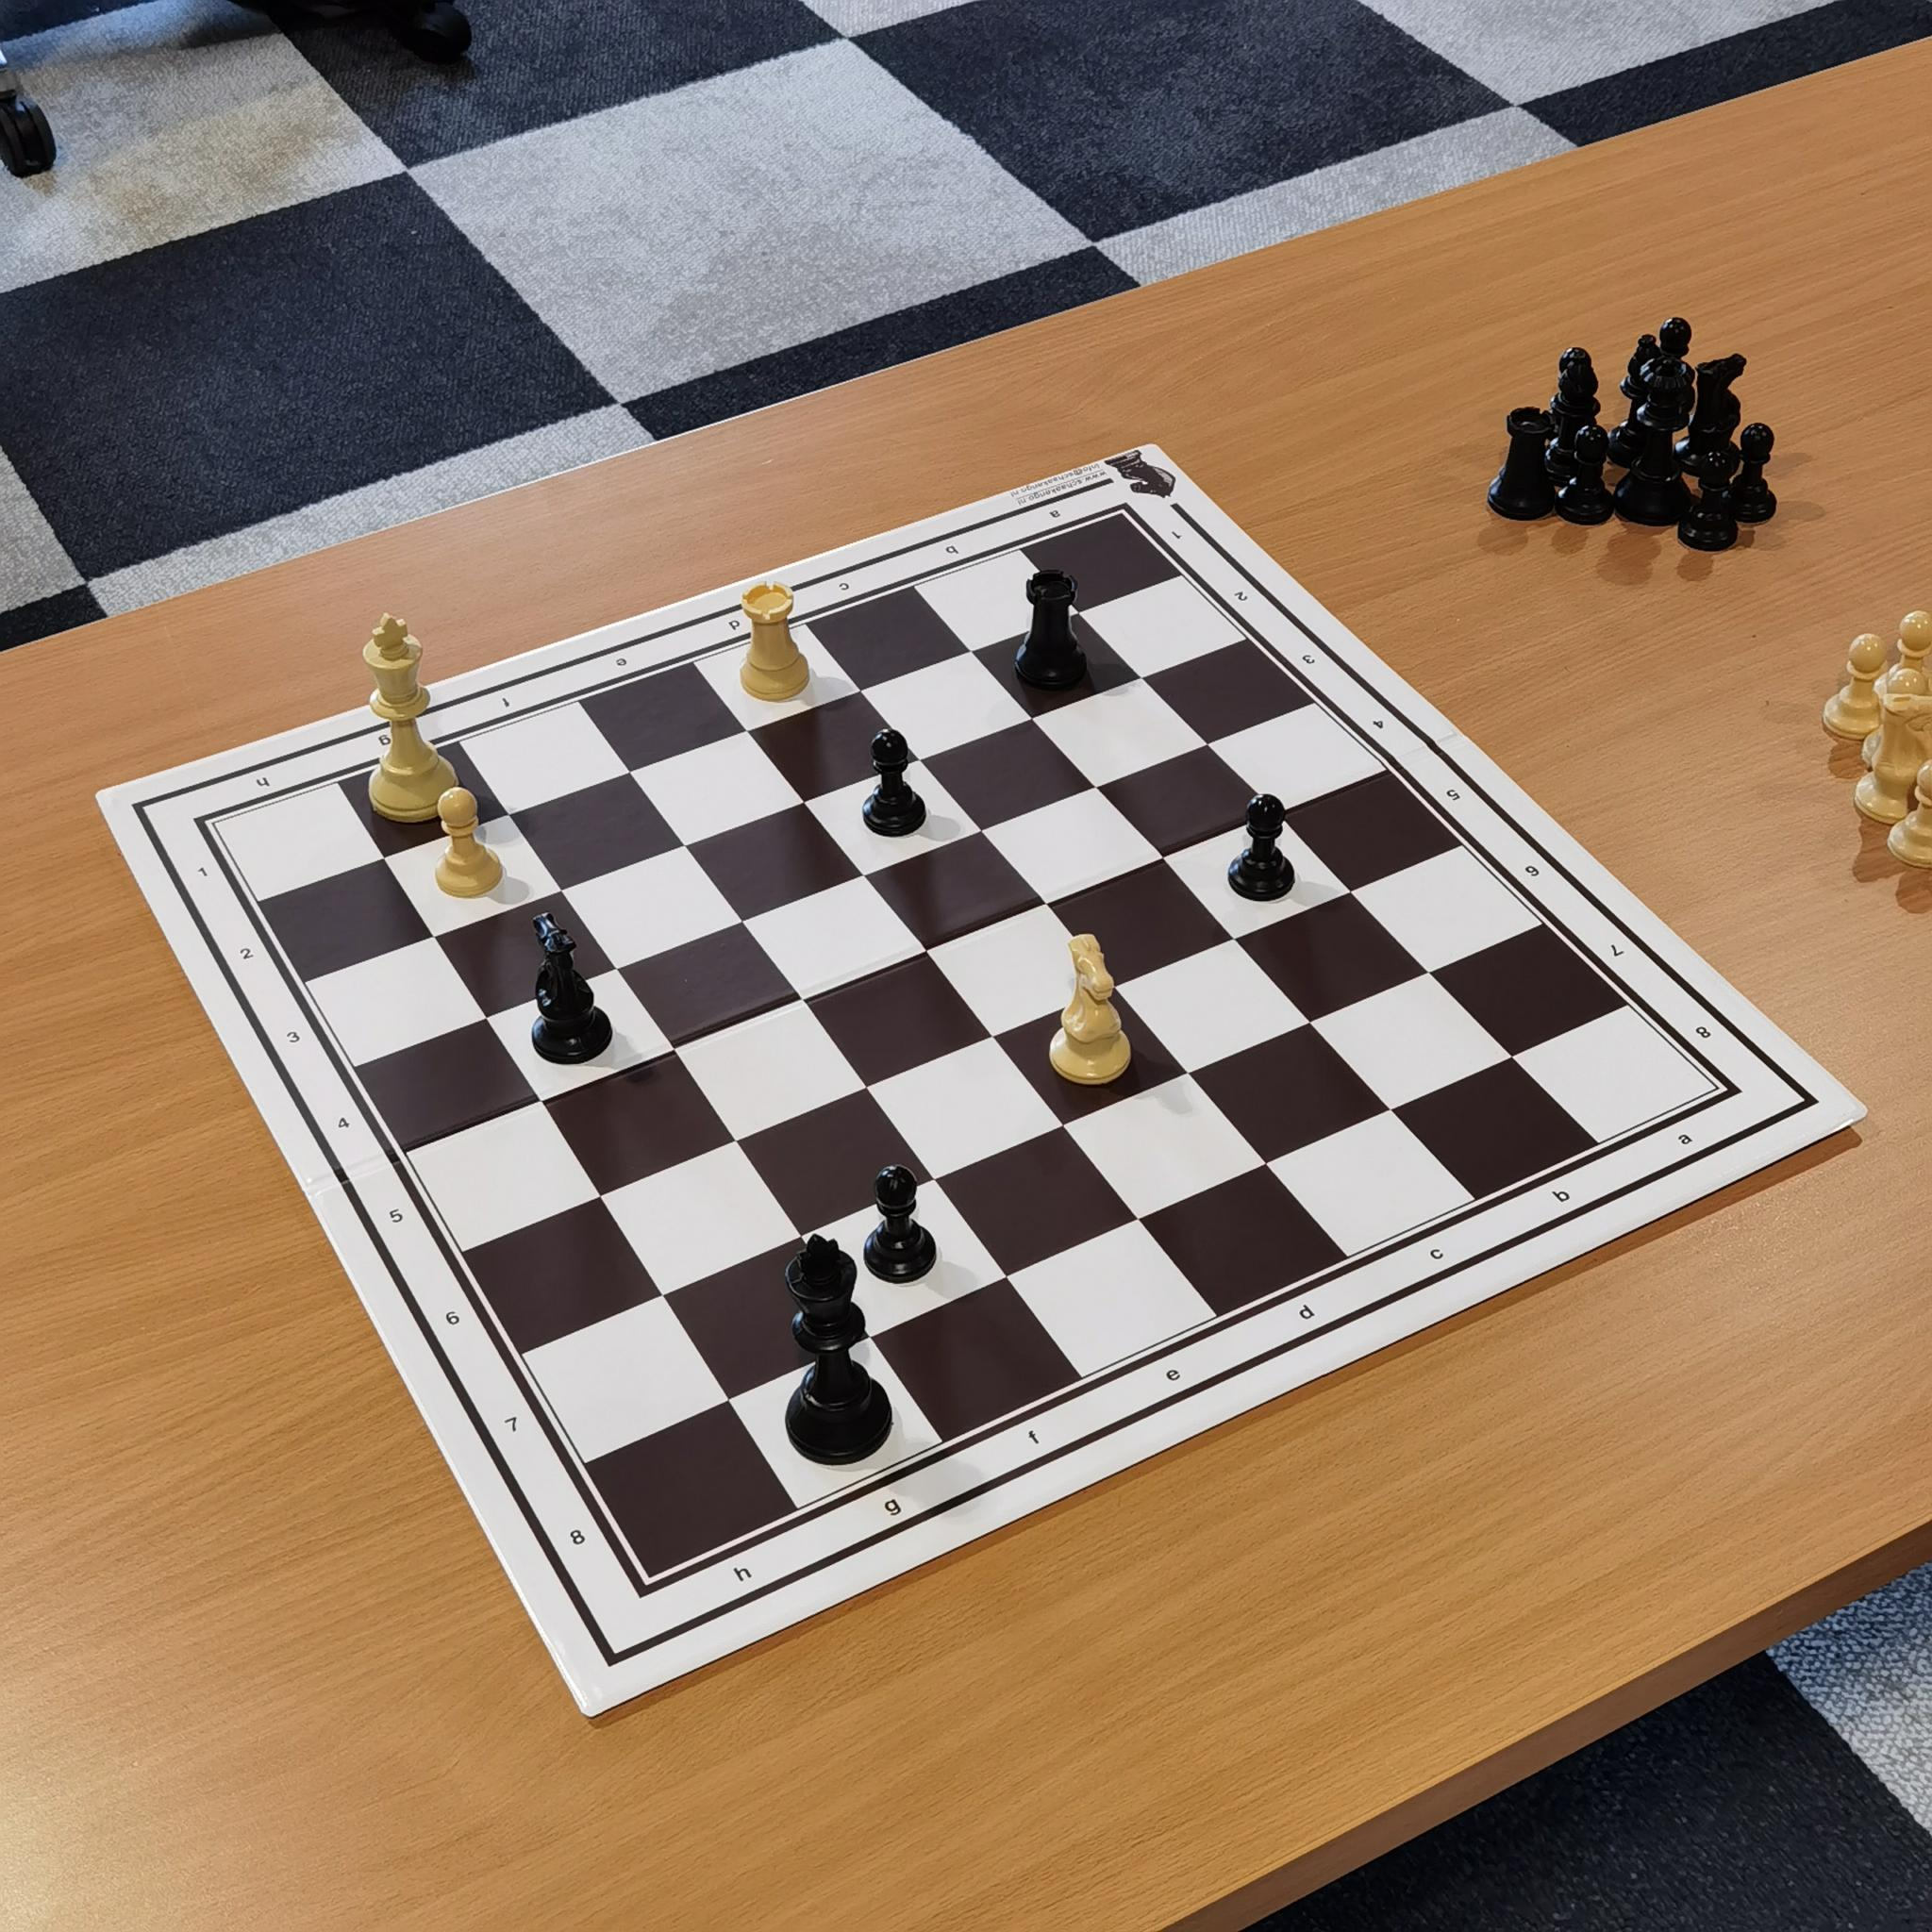corners: (1697, 1065, 1760, 1113), (617, 1566, 674, 1619), (182, 810, 239, 853), (1095, 495, 1146, 541)
eight: (550, 1518, 596, 1566), (1684, 1017, 1727, 1056)
one: (184, 846, 226, 895), (1164, 520, 1196, 556)
